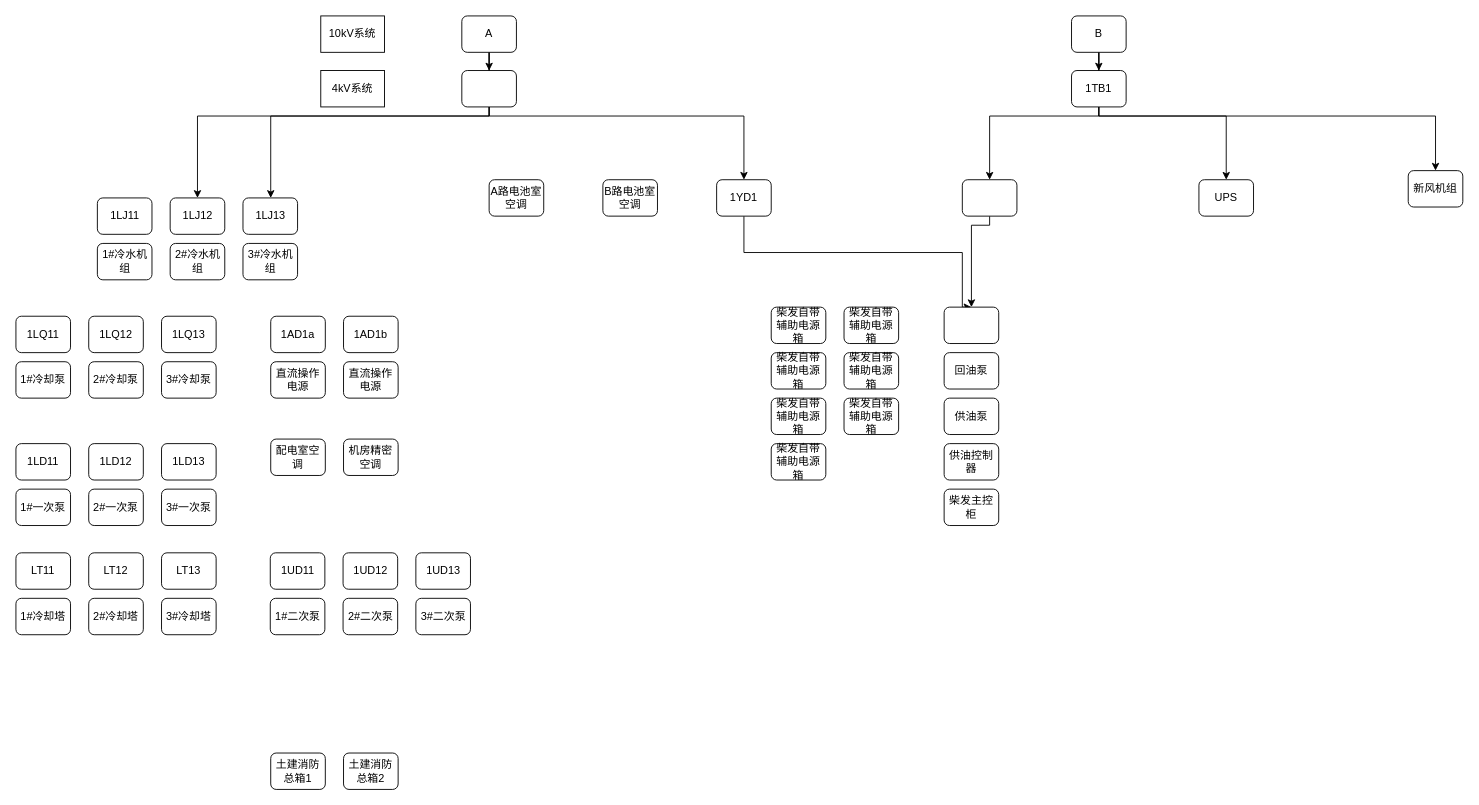
Image size: 1479x805. Some labels were removed from this diagram. Here are the shapes that lost their labels. From the top down, the centre of each, then its label:
At point 488,88: "1TA1".
At point 989,197: "1YD2".
At point 971,325: "1GY".
